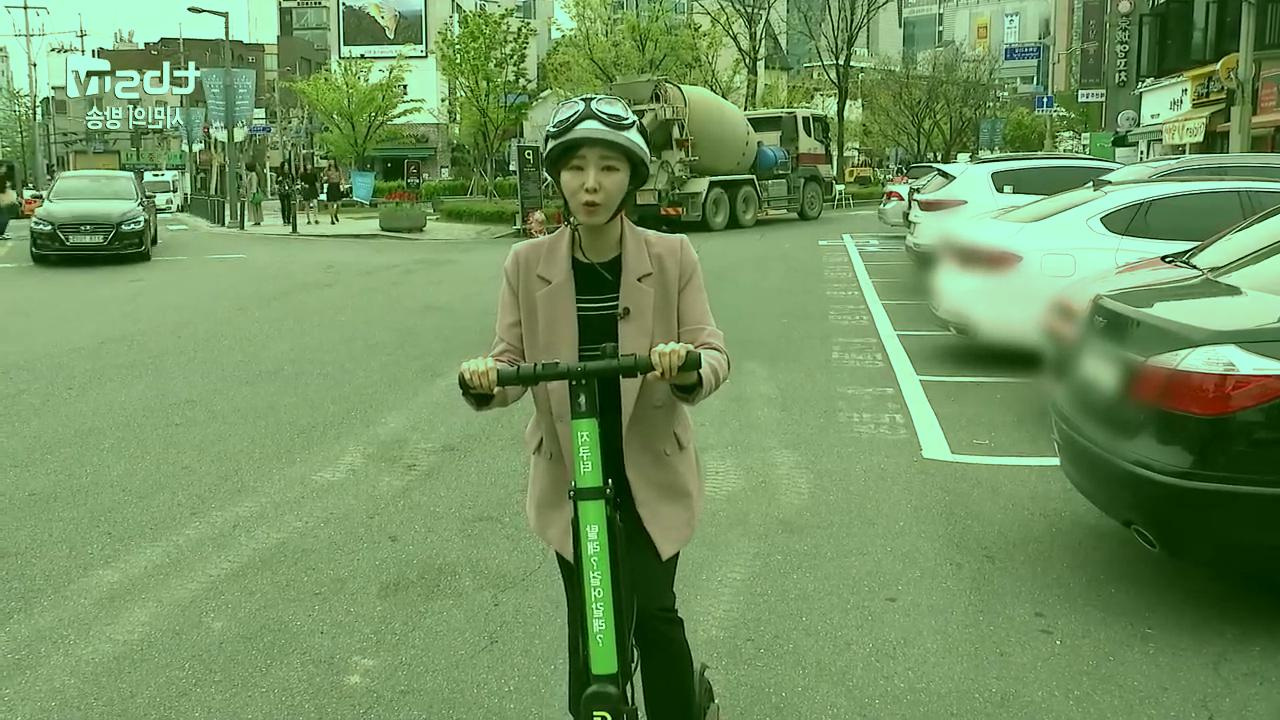helmet: (453, 92, 731, 720)
